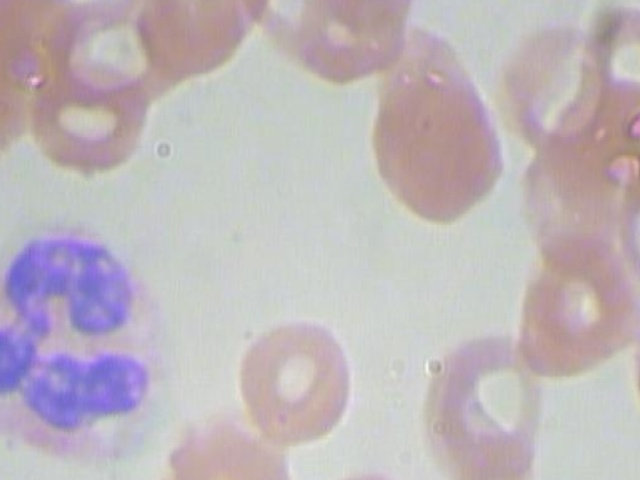RBC: (363, 22, 511, 224), (408, 311, 549, 480), (221, 304, 367, 456), (484, 0, 608, 157), (526, 210, 640, 364), (15, 51, 154, 177), (33, 0, 179, 110), (132, 0, 277, 80), (156, 417, 295, 480), (585, 0, 640, 116), (619, 136, 640, 304), (299, 459, 437, 480), (307, 468, 433, 480), (470, 470, 597, 480)
WBC: (0, 201, 201, 475)
